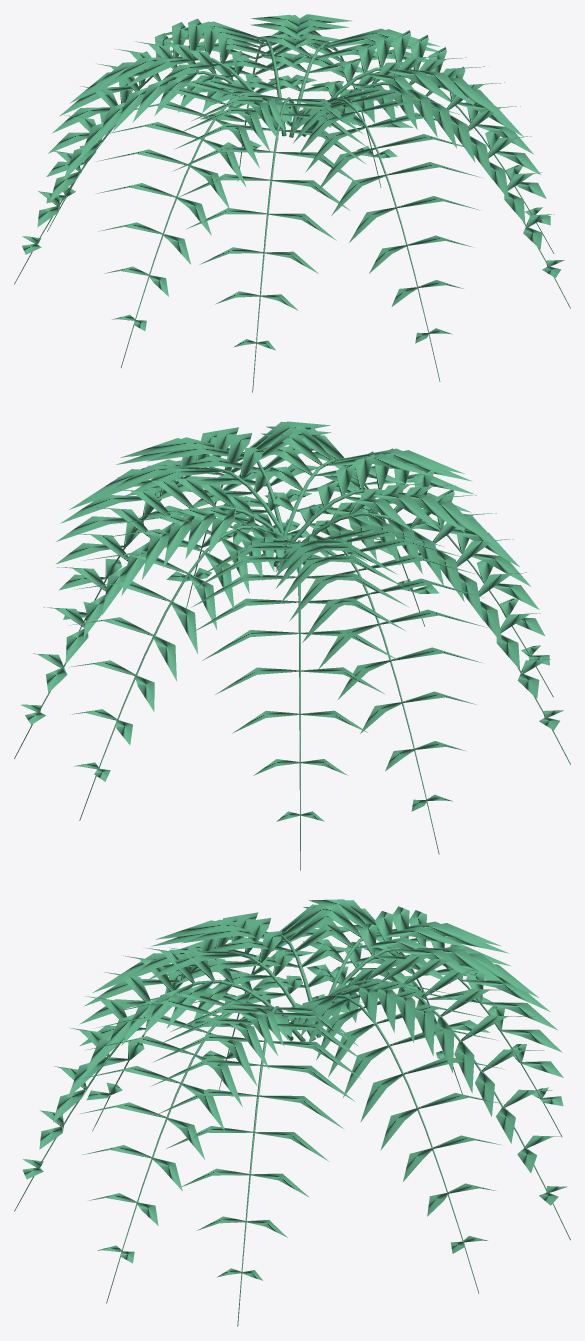
File: trunkless_nipa_palm_tropical_island_and_palm_trees_6802.glb
3 views of the same model, one above another, from view 1: azimuth 30°, elevation 25°; view 2: azimuth 150°, elevation 25°; view 3: azimuth 270°, elevation 25° (orthographic). The views are drawn at different scales.
Parts seen in each view (by area): view 1: nipa-palm; view 2: nipa-palm; view 3: nipa-palm.
Boxes of the visible parts, x1=… form: nipa-palm: x1=14, y1=14, x2=570, y2=392; nipa-palm: x1=14, y1=421, x2=570, y2=870; nipa-palm: x1=14, y1=899, x2=570, y2=1326.
Bounding box in the file's own units: 4.12 × 1.97 × 4.13.
